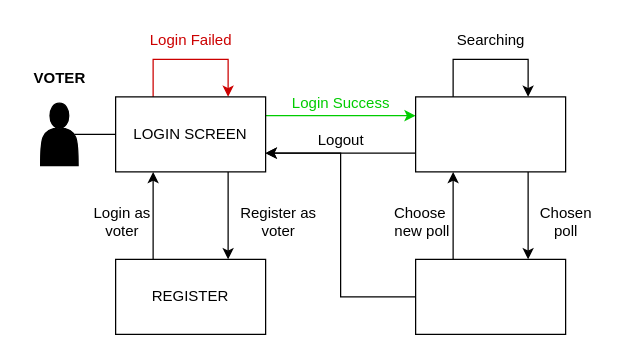
Image size: 624x356. Some labels were removed from this diagram. The centre of each missing label's shape, as x and y in pixels:
"SEARCH FOR POLL" goes at [490,134].
"VOTING SCREEN" goes at [490,296].
